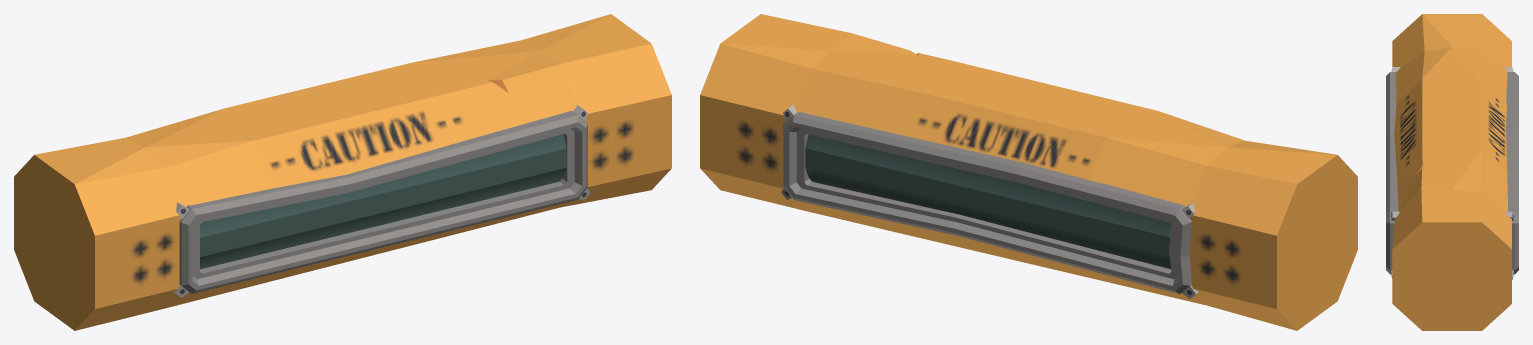
The model's file is SM_Bld_Pipe_Large_Octo_01.fbx.
3 views of the same model, side by side, from view 1: azimuth 30°, elevation 25°; view 2: azimuth 150°, elevation 25°; view 3: azimuth 270°, elevation 25° (orthographic). The views are drawn at different scales.
Parts seen in each view (by area): view 1: SM_Bld_Pipe_Large_Octo_01; view 2: SM_Bld_Pipe_Large_Octo_01; view 3: SM_Bld_Pipe_Large_Octo_01.
Part boxes in pixels (x1=…): SM_Bld_Pipe_Large_Octo_01: x1=14, y1=14, x2=671, y2=330; SM_Bld_Pipe_Large_Octo_01: x1=700, y1=14, x2=1357, y2=330; SM_Bld_Pipe_Large_Octo_01: x1=1386, y1=14, x2=1518, y2=330.
Size of the model in its own units: 500 by 123 by 135.
